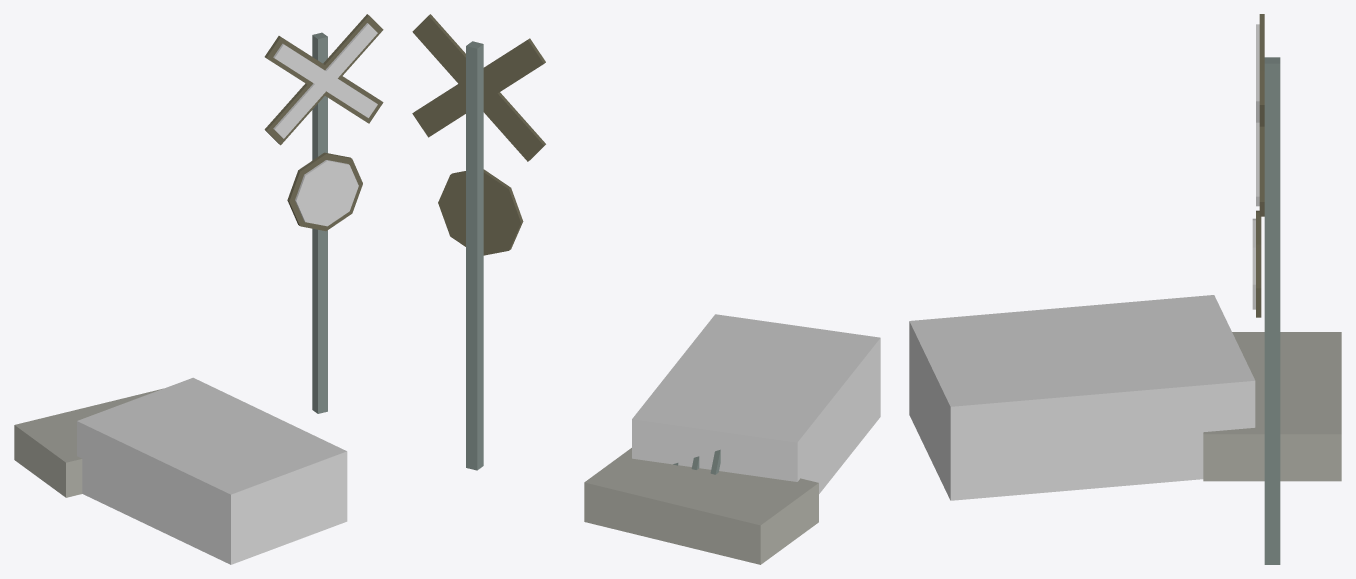
File: SM_ArmarioAdif_v4_Volcado_LOD0.fbx
3 views of the same model, side by side, from view 1: azimuth 30°, elevation 25°; view 2: azimuth 150°, elevation 25°; view 3: azimuth 270°, elevation 25° (orthographic). The views are drawn at different scales.
Visible parts, largest first — view 1: SM_sagunto_vivo_v14_LOD0; view 2: SM_sagunto_vivo_v14_LOD0; view 3: SM_sagunto_vivo_v14_LOD0.
Part boxes in pixels (<box>): SM_sagunto_vivo_v14_LOD0: <box>14,14,383,564</box>; SM_sagunto_vivo_v14_LOD0: <box>412,14,880,564</box>; SM_sagunto_vivo_v14_LOD0: <box>909,14,1341,564</box>.
Size of the model in its own units: 3.02 by 3.31 by 2.5.
